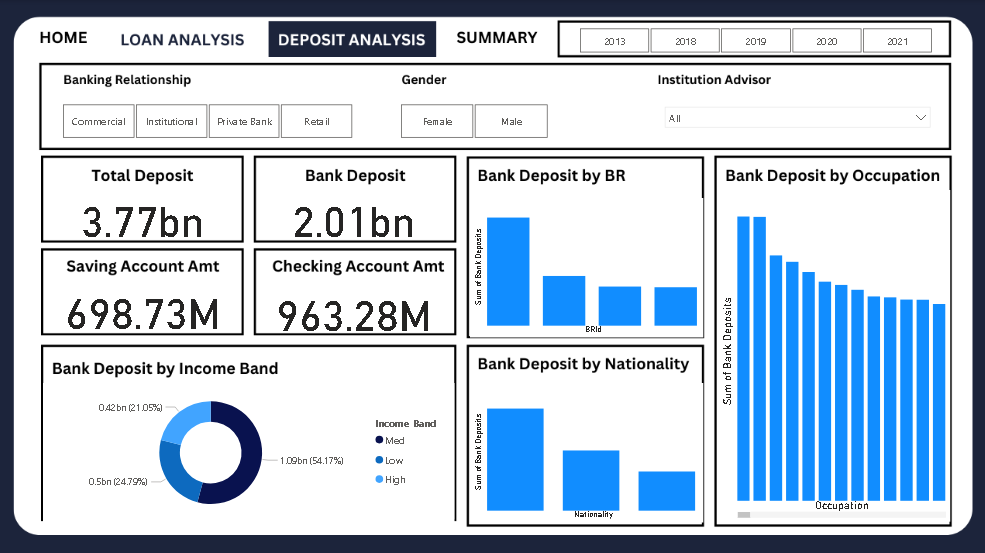

Layout of this report page (visuals, bound fields, positions):
{"tool":"powerbi","page":{"name":"Deposit Analysis","canvas":[1280,720],"ordinal":2},"visuals":[{"type":"slicer","fields":{"Values":["banking_case customer.Year of Joining"]},"box":[727.3,30.2,503.9,45.4],"z":0},{"type":"actionButton","box":[43.7,30.2,94.1,45.4],"z":1000},{"type":"actionButton","box":[354.4,26.9,211.7,45.4],"z":2000},{"type":"actionButton","box":[577.8,30.2,136.1,45.4],"z":3000},{"type":"card","fields":{"Values":["banking_case customer.Total Deposit"]},"box":[60.5,245.2,258.7,68.9],"z":4000},{"type":"card","fields":{"Values":["Sum(banking_case customer.Bank Deposits)"]},"box":[332.6,245.2,258.7,68.9],"z":5000},{"type":"card","fields":{"Values":["Sum(banking_case customer.Saving Accounts)"]},"box":[60.5,364.5,258.7,68.9],"z":6000},{"type":"card","fields":{"Values":["Sum(banking_case customer.Checking Accounts)"]},"box":[332.6,366.2,258.7,68.9],"z":7000},{"type":"donutChart","fields":{"Category":["banking_case customer.Income Band"],"Y":["Sum(banking_case customer.Bank Deposits)"]},"box":[60.5,493.9,530.8,179.7],"z":8000},{"type":"clusteredColumnChart","fields":{"Category":["banking_case customer.BRId"],"Y":["Sum(banking_case customer.Bank Deposits)"]},"box":[611.4,255.3,300.7,179.7],"z":9000},{"type":"clusteredColumnChart","fields":{"Category":["banking_case customer.Nationality"],"Y":["Sum(banking_case customer.Bank Deposits)"]},"box":[611.4,493.9,300.7,179.7],"z":10000},{"type":"clusteredColumnChart","fields":{"Category":["banking_case customer.Occupation"],"Y":["Sum(banking_case customer.Bank Deposits)"]},"box":[930.6,245.2,300.7,428.3],"z":11000},{"type":"slicer","fields":{"Values":["banking_case customer.BRId"]},"box":[60.5,127.7,423.3,57.1],"z":12000},{"type":"slicer","fields":{"Values":["banking_case customer.GenderId"]},"box":[497.2,127.7,238.5,57.1],"z":13000},{"type":"slicer","fields":{"Values":["banking_case customer.IAId"]},"box":[853.3,127.7,362.8,52.1],"z":14000},{"type":"actionButton","box":[154.5,26.9,171.3,45.4],"z":14001}]}

Visuals, with their boxes in screenshot pixels (x1, y1, x2, y2), scaled from the page's 1280x720 canvas onto the 985x553 screenshot:
slicer - banking_case customer.Year of Joining: <bbox>560, 23, 947, 58</bbox>
actionButton: <bbox>34, 23, 106, 58</bbox>
actionButton: <bbox>273, 21, 436, 56</bbox>
actionButton: <bbox>445, 23, 549, 58</bbox>
card - banking_case customer.Total Deposit: <bbox>47, 188, 246, 241</bbox>
card - Sum(banking_case customer.Bank Deposits): <bbox>256, 188, 455, 241</bbox>
card - Sum(banking_case customer.Saving Accounts): <bbox>47, 280, 246, 333</bbox>
card - Sum(banking_case customer.Checking Accounts): <bbox>256, 281, 455, 334</bbox>
donutChart - banking_case customer.Income Band x Sum(banking_case customer.Bank Deposits): <bbox>47, 379, 455, 517</bbox>
clusteredColumnChart - banking_case customer.BRId x Sum(banking_case customer.Bank Deposits): <bbox>470, 196, 702, 334</bbox>
clusteredColumnChart - banking_case customer.Nationality x Sum(banking_case customer.Bank Deposits): <bbox>470, 379, 702, 517</bbox>
clusteredColumnChart - banking_case customer.Occupation x Sum(banking_case customer.Bank Deposits): <bbox>716, 188, 948, 517</bbox>
slicer - banking_case customer.BRId: <bbox>47, 98, 372, 142</bbox>
slicer - banking_case customer.GenderId: <bbox>383, 98, 566, 142</bbox>
slicer - banking_case customer.IAId: <bbox>657, 98, 936, 138</bbox>
actionButton: <bbox>119, 21, 251, 56</bbox>
